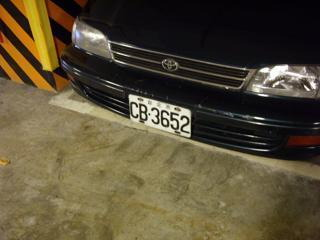plate: (128, 92, 193, 142)
